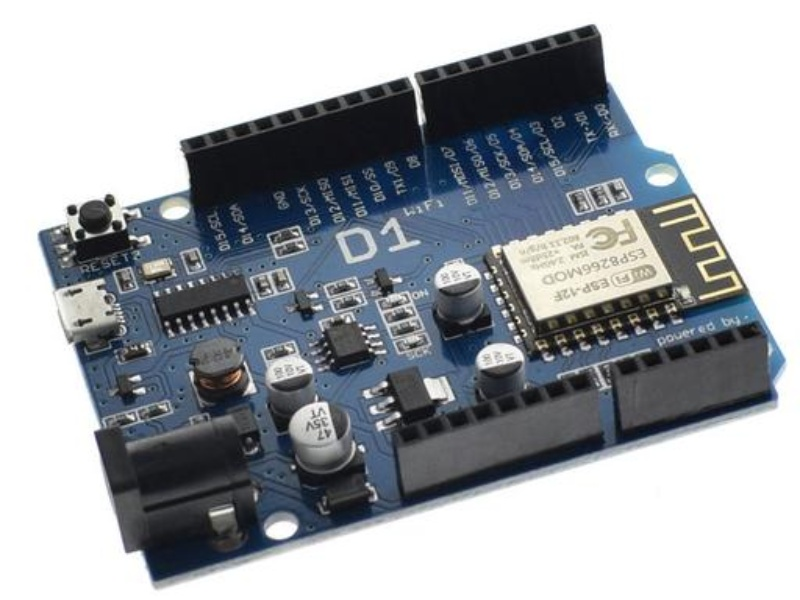esp32: (484, 225, 764, 326)
